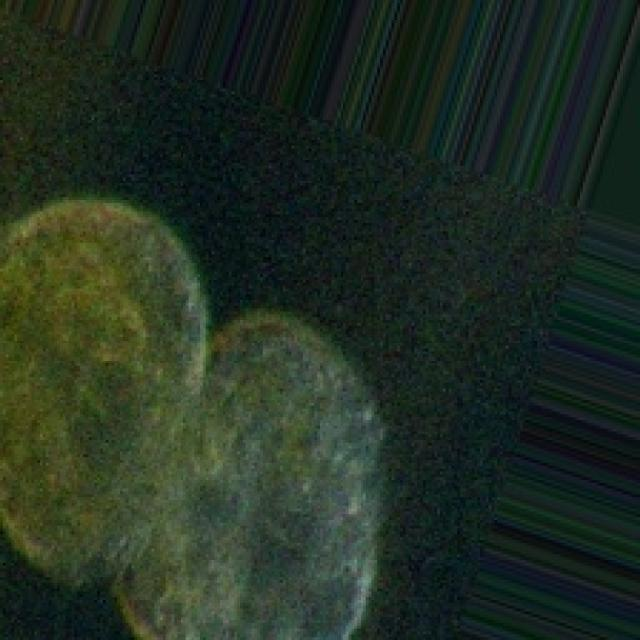Amoeba: (0, 160, 429, 640)
